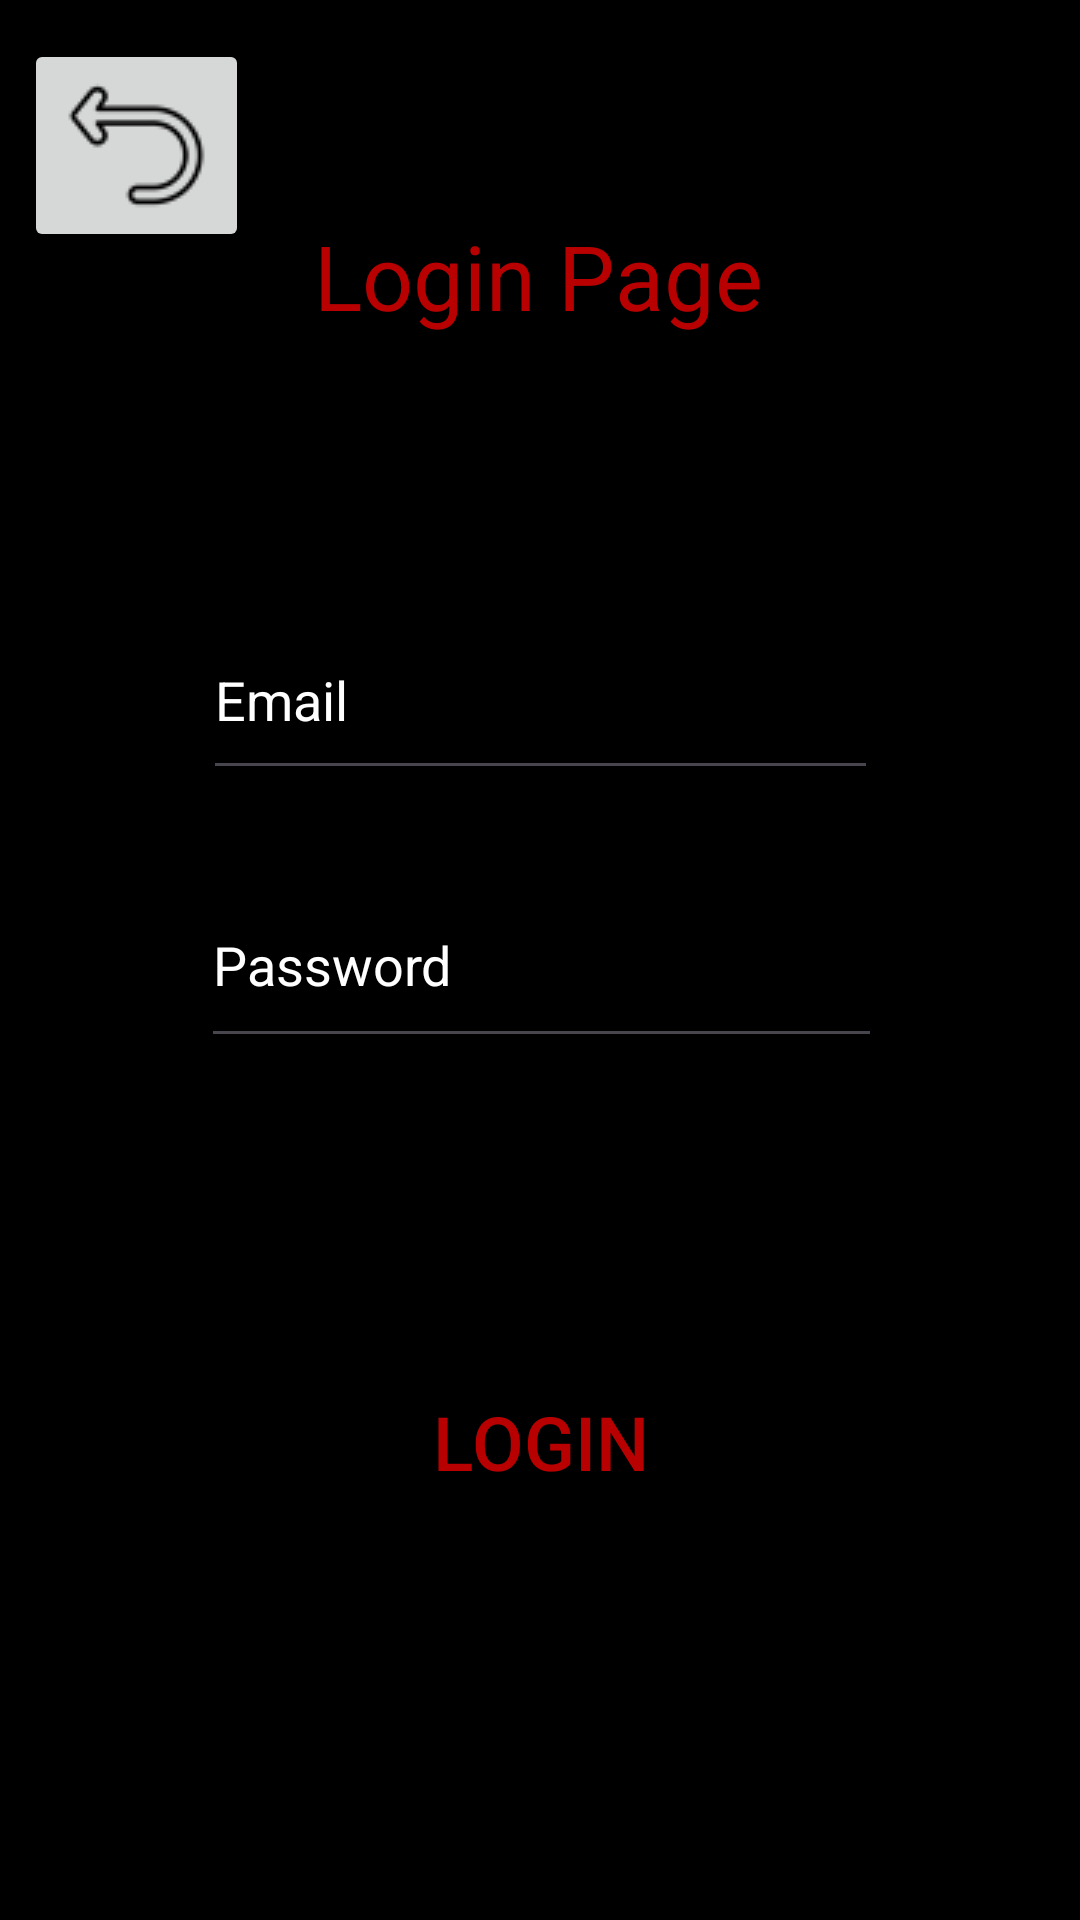

Screen size 1080w x 1920h. Icon name, then its box in pixels as bbox(x1, y1, x2, y2):
backc: bbox(36, 57, 237, 234)
